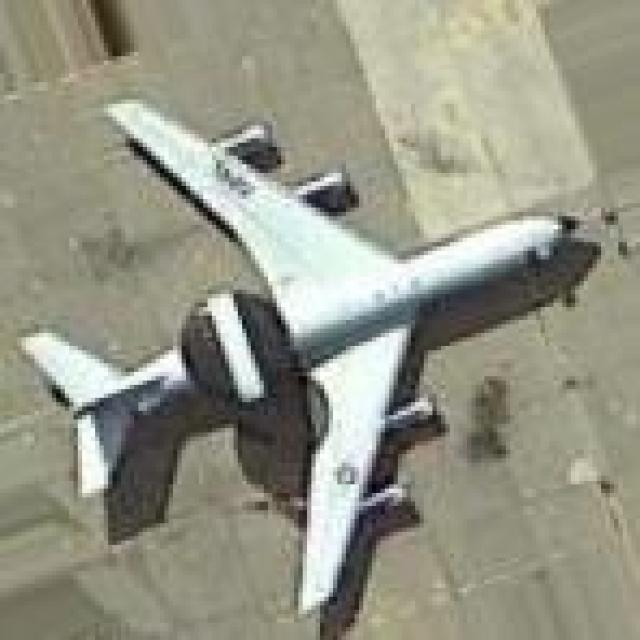E-3_TopDown: (17, 86, 601, 632)
